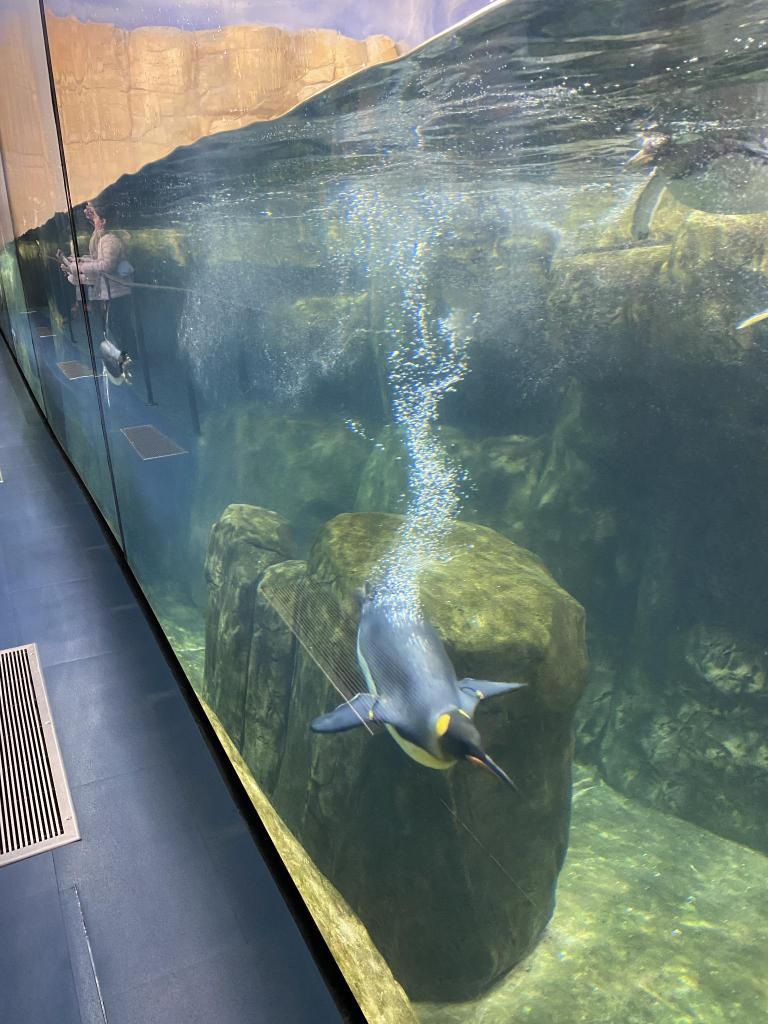penguin: (309, 578, 527, 798), (628, 121, 768, 237), (98, 334, 134, 386)
